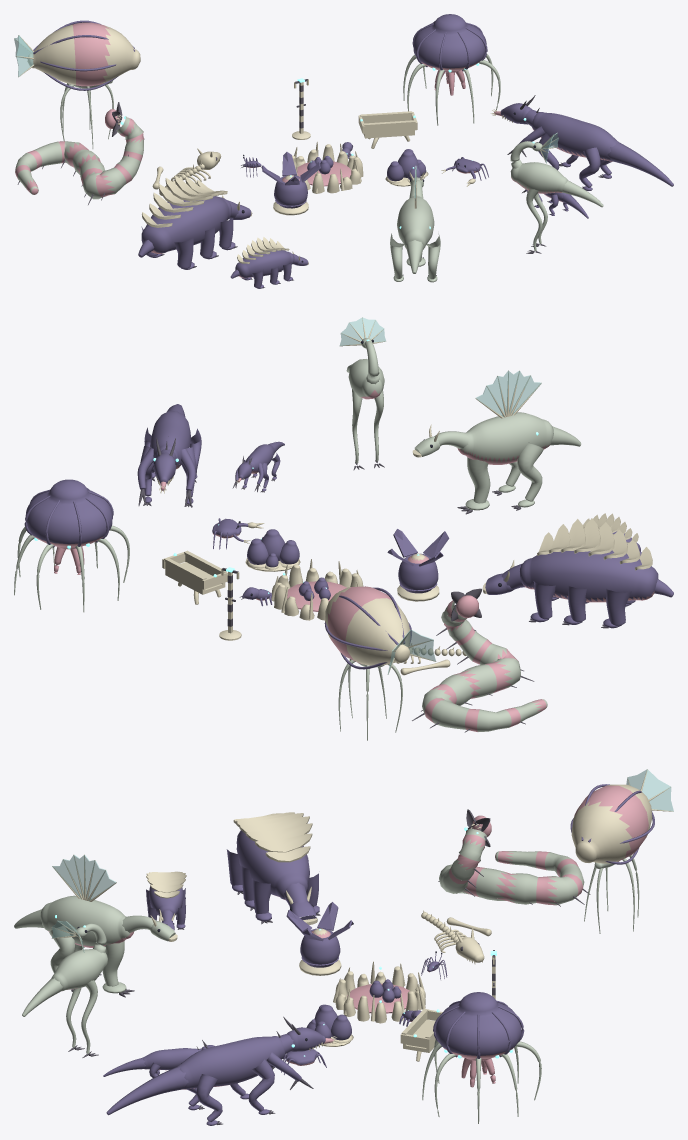
The model's file is xeno-species-and-alien-creatures-xeno-surface-encounte-c1ff5005__21146.glb.
3 views of the same model, one above another, from view 1: azimuth 30°, elevation 25°; view 2: azimuth 150°, elevation 25°; view 3: azimuth 270°, elevation 25° (orthographic). The views are drawn at different scales.
Visible parts, largest first — view 1: 007-six-limbed-apex-predator/0, 005-plated-grazer/0, 011-burrowing-segmented-worm/1, 013-gasbag-drifter/0, 009-sail-backed-tripod-browser/0, 012-tentacled-floater/1, 010-filter-feeding-wader/0, 005-plated-grazer/2, 013-gasbag-drifter/1, 011-burrowing-segmented-worm/0, 006-plated-grazer-calf/0, 000-xeno-nest-mound/0 (+15 smaller); view 2: 005-plated-grazer/0, 009-sail-backed-tripod-browser/0, 011-burrowing-segmented-worm/1, 012-tentacled-floater/1, 007-six-limbed-apex-predator/0, 013-gasbag-drifter/0, 005-plated-grazer/2, 011-burrowing-segmented-worm/0, 010-filter-feeding-wader/0, 000-xeno-nest-mound/0, 013-gasbag-drifter/1, 009-sail-backed-tripod-browser/3 (+14 smaller); view 3: 007-six-limbed-apex-predator/0, 009-sail-backed-tripod-browser/0, 005-plated-grazer/0, 011-burrowing-segmented-worm/1, 012-tentacled-floater/1, 010-filter-feeding-wader/0, 013-gasbag-drifter/0, 005-plated-grazer/2, 011-burrowing-segmented-worm/0, 000-xeno-nest-mound/0, 013-gasbag-drifter/1, 009-sail-backed-tripod-browser/3 (+15 smaller).
Part boxes in pixels (bbox=[...]): 007-six-limbed-apex-predator/0: bbox=[500, 103, 673, 190]; 005-plated-grazer/0: bbox=[138, 196, 251, 269]; 011-burrowing-segmented-worm/1: bbox=[15, 116, 144, 199]; 013-gasbag-drifter/0: bbox=[27, 24, 140, 85]; 009-sail-backed-tripod-browser/0: bbox=[390, 177, 440, 282]; 012-tentacled-floater/1: bbox=[413, 14, 486, 68]; 010-filter-feeding-wader/0: bbox=[510, 141, 603, 250]; 005-plated-grazer/2: bbox=[141, 175, 252, 227]; 013-gasbag-drifter/1: bbox=[72, 22, 110, 86]; 011-burrowing-segmented-worm/0: bbox=[15, 109, 143, 197]; 006-plated-grazer-calf/0: bbox=[230, 250, 308, 288]; 000-xeno-nest-mound/0: bbox=[292, 144, 363, 193]; 005-plated-grazer/0: bbox=[485, 550, 673, 628]; 009-sail-backed-tripod-browser/0: bbox=[414, 412, 581, 510]; 011-burrowing-segmented-worm/1: bbox=[422, 601, 547, 731]; 012-tentacled-floater/1: bbox=[25, 479, 112, 544]; 007-six-limbed-apex-predator/0: bbox=[137, 404, 201, 504]; 013-gasbag-drifter/0: bbox=[325, 586, 410, 665]; 005-plated-grazer/2: bbox=[482, 518, 652, 593]; 011-burrowing-segmented-worm/0: bbox=[424, 595, 546, 731]; 010-filter-feeding-wader/0: bbox=[346, 338, 384, 463]; 000-xeno-nest-mound/0: bbox=[271, 564, 363, 620]; 013-gasbag-drifter/1: bbox=[327, 586, 391, 663]; 009-sail-backed-tripod-browser/3: bbox=[476, 371, 541, 417]; 007-six-limbed-apex-predator/0: bbox=[106, 1027, 325, 1125]; 009-sail-backed-tripod-browser/0: bbox=[14, 895, 175, 993]; 005-plated-grazer/0: bbox=[226, 830, 319, 921]; 011-burrowing-segmented-worm/1: bbox=[439, 829, 584, 905]; 012-tentacled-floater/1: bbox=[435, 992, 521, 1055]; 010-filter-feeding-wader/0: bbox=[22, 923, 107, 1053]; 013-gasbag-drifter/0: bbox=[571, 784, 652, 863]; 005-plated-grazer/2: bbox=[233, 812, 317, 924]; 011-burrowing-segmented-worm/0: bbox=[449, 815, 583, 905]; 000-xeno-nest-mound/0: bbox=[335, 966, 425, 1023]; 013-gasbag-drifter/1: bbox=[574, 785, 648, 861]; 009-sail-backed-tripod-browser/3: bbox=[52, 855, 116, 900].
Bounding box in the file's own units: 16.42 × 3.87 × 16.73.
